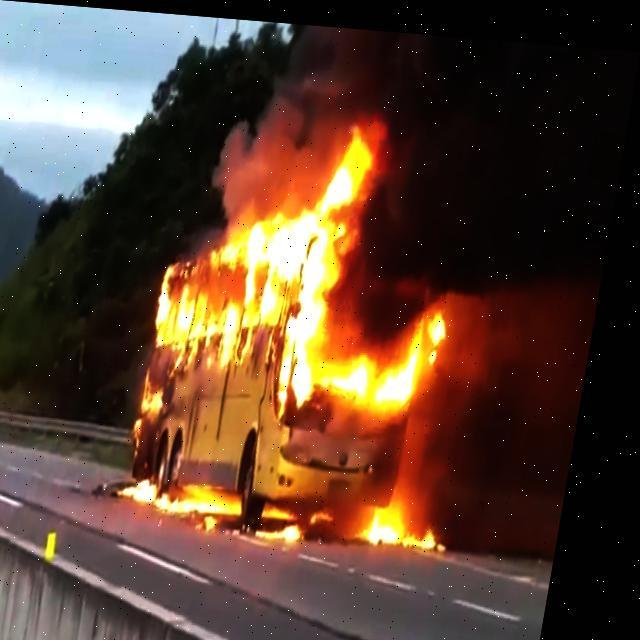Fire: (155, 112, 381, 409), (343, 300, 462, 410), (371, 493, 480, 547), (130, 474, 258, 510), (147, 365, 184, 444), (270, 514, 324, 539), (276, 492, 316, 514), (328, 501, 354, 518)
